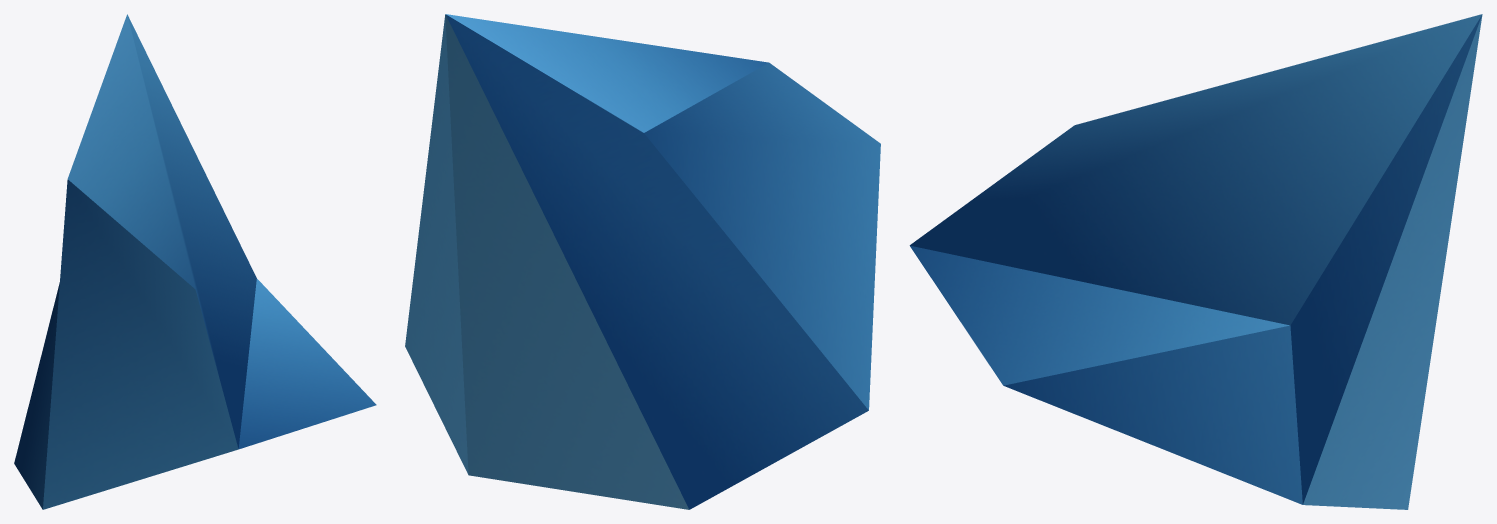
The model's file is TextureIceLvl.fbx.
3 views of the same model, side by side, from view 1: azimuth 30°, elevation 25°; view 2: azimuth 150°, elevation 25°; view 3: azimuth 270°, elevation 25° (orthographic). The views are drawn at different scales.
Parts seen in each view (by area): view 1: Cone.006; view 2: Cone.006; view 3: Cone.006.
Boxes of the visible parts, left/top/right/bottom form: Cone.006: left=14, top=14, right=376, bottom=509; Cone.006: left=405, top=14, right=880, bottom=509; Cone.006: left=909, top=14, right=1482, bottom=509.
Bounding box in the file's own units: 127 × 151 × 160.
Materials: 1 (1 with a texture image).
